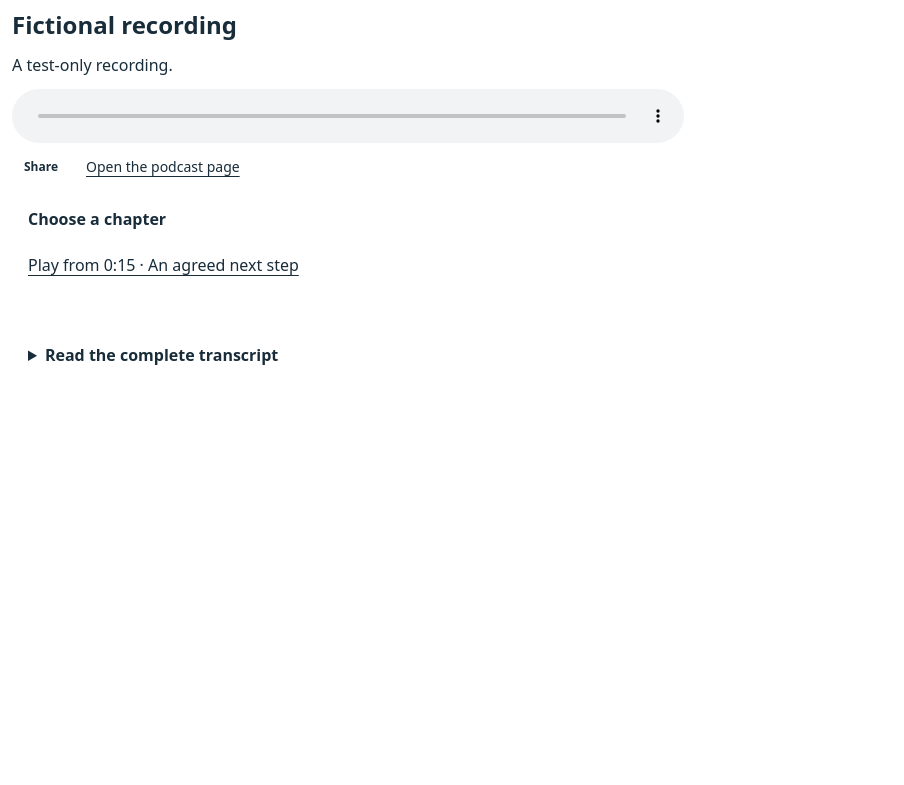
Test: keeps the exact transcript readable after playback rejection and supports retry
The width and height of the screenshot is (904, 785).
Click the heading "Read the complete transcript" at {"x": 162, "y": 355}, box [45, 344, 278, 366]
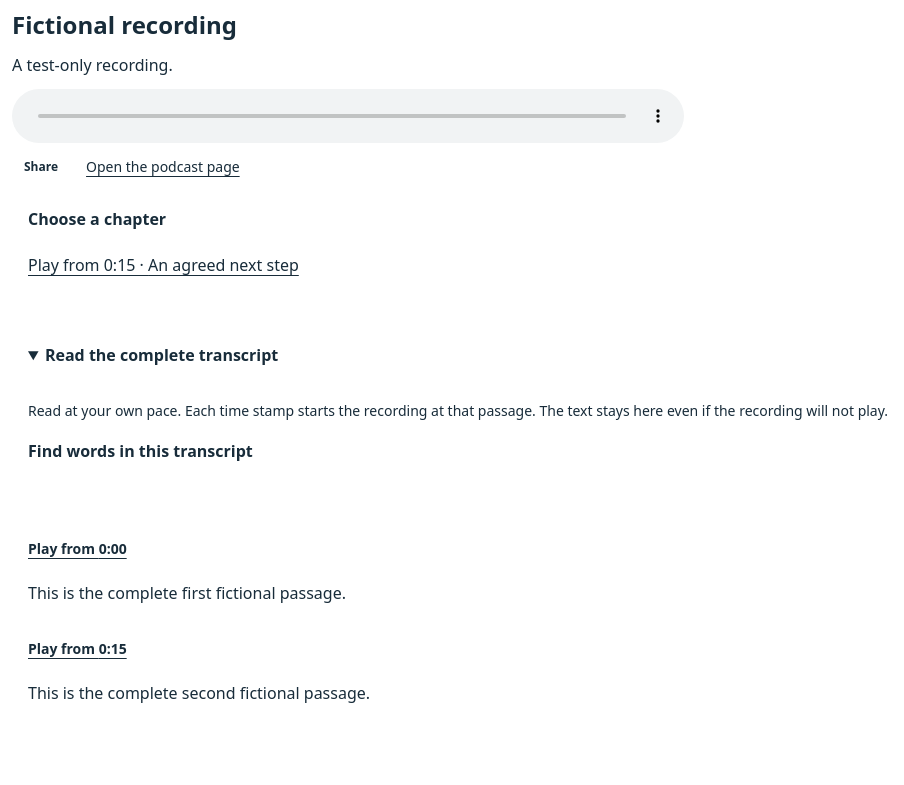
Click the button "Play from 0:15" at {"x": 77, "y": 649}, box [28, 627, 127, 671]
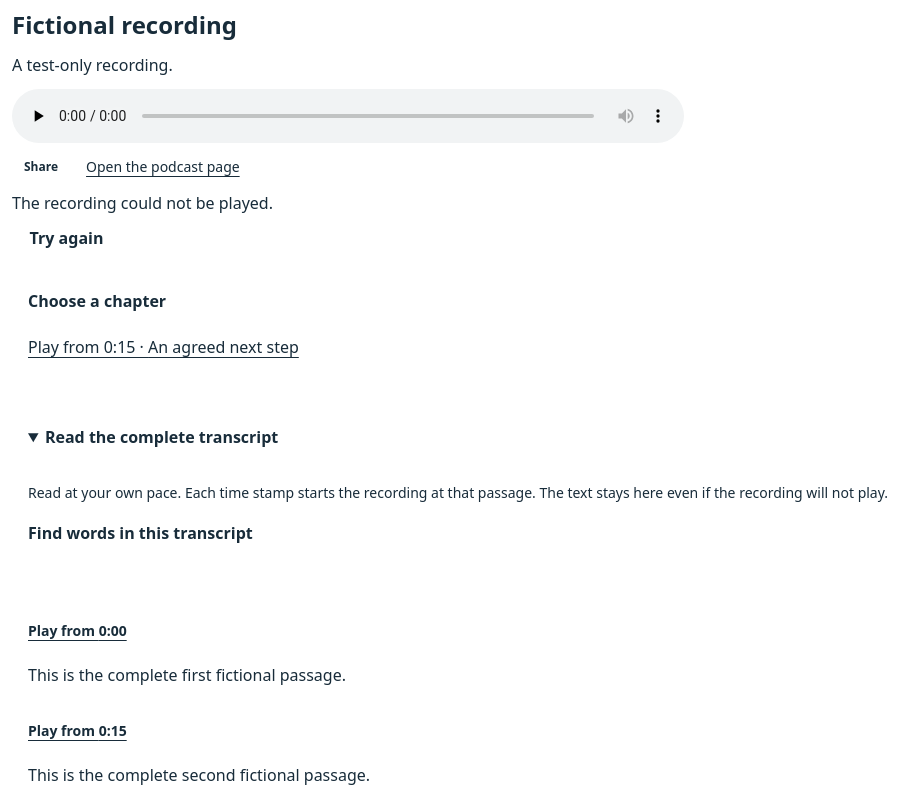
Check: the text "This is the complete first fictional passage." is shown, box [28, 664, 346, 686]
Check: the text "This is the complete second fictional passage." is shown, box [28, 764, 370, 784]
Check: the message reads "The recording could not be played.", box [12, 192, 273, 214]
Click the button "Try again" at {"x": 66, "y": 238}, box [12, 215, 121, 261]
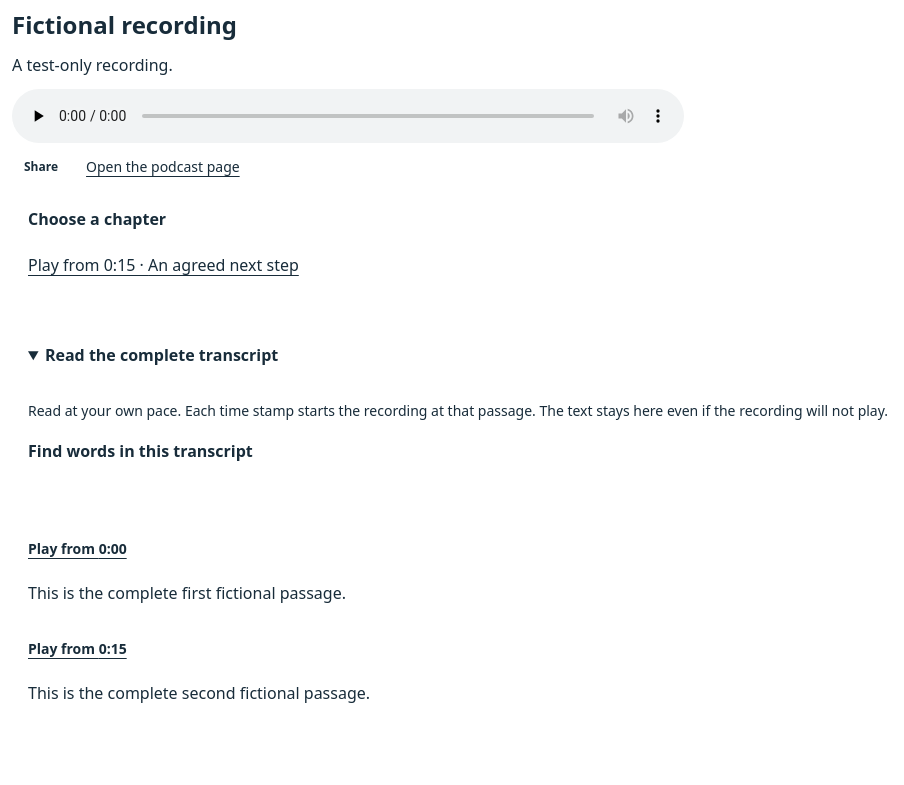
Check: the message "The recording could not be played." is gone
